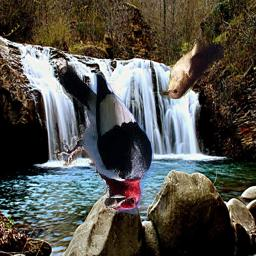Cuckoo: (160, 39, 225, 100)
Woodpecker: (48, 56, 154, 221)
